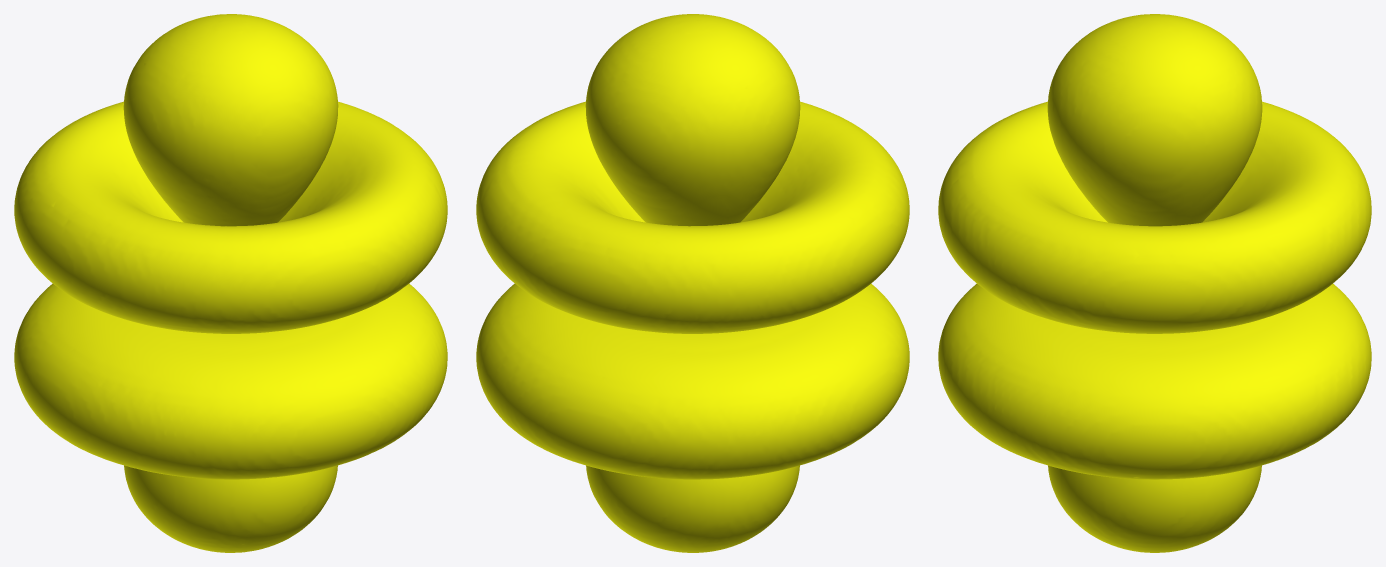
Rendered from fz3 orbital.dae.
3 views of the same model, side by side, from view 1: azimuth 30°, elevation 25°; view 2: azimuth 150°, elevation 25°; view 3: azimuth 270°, elevation 25° (orthographic).
Parts seen in each view (by area): view 1: fz3.001, fz3; view 2: fz3.001, fz3; view 3: fz3.001, fz3.
Boxes of the visible parts, x1,y1,x2,y2 form: fz3.001: (14,14,447,479); fz3: (14,101,447,552); fz3.001: (476,14,909,479); fz3: (476,101,909,552); fz3.001: (938,14,1371,479); fz3: (938,101,1371,552).
Bounding box in the file's own units: 55.72 × 55.72 × 73.05.
